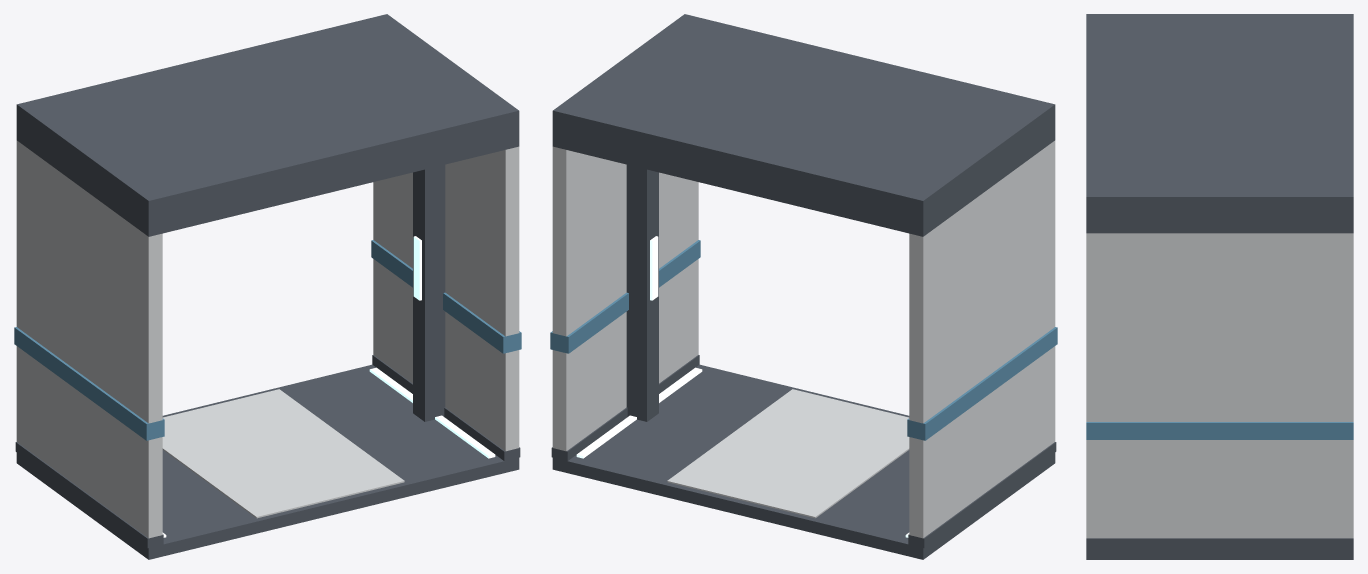
File: spaceship-deck-kit-corridor-short-fcae845b__12554.glb
3 renders of one model, left to right at view 1: azimuth 30°, elevation 25°; view 2: azimuth 150°, elevation 25°; view 3: azimuth 270°, elevation 25°, orthographic.
Parts seen in each view (by area): view 1: corridor-short; view 2: corridor-short; view 3: corridor-short.
Part boxes in pixels (x1,y1,x2,y2): corridor-short: (14,14,521,559); corridor-short: (550,14,1057,559); corridor-short: (1086,14,1353,559).
Size of the model in its own units: 3.28 by 3 by 2.
